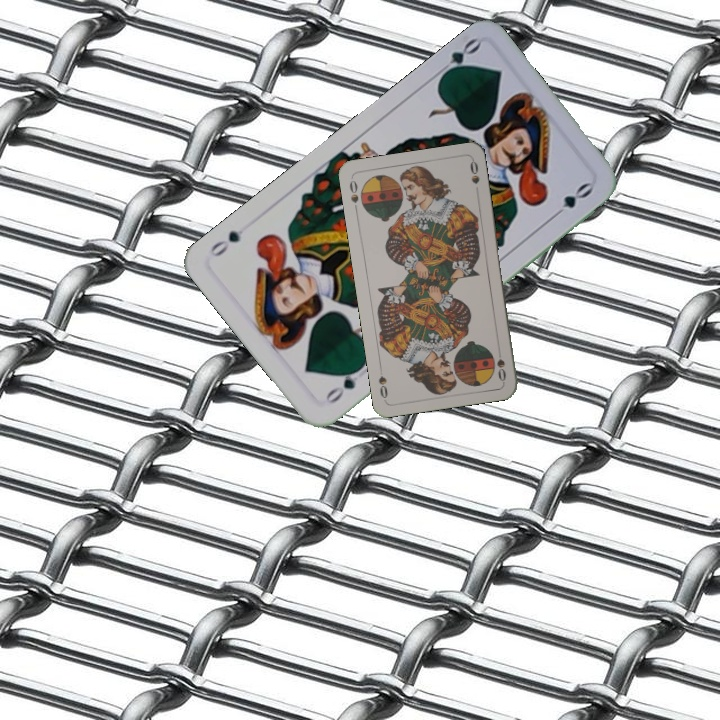GO: (431, 34, 483, 82), (320, 361, 367, 407)
SO: (345, 176, 361, 215), (493, 343, 508, 384)
